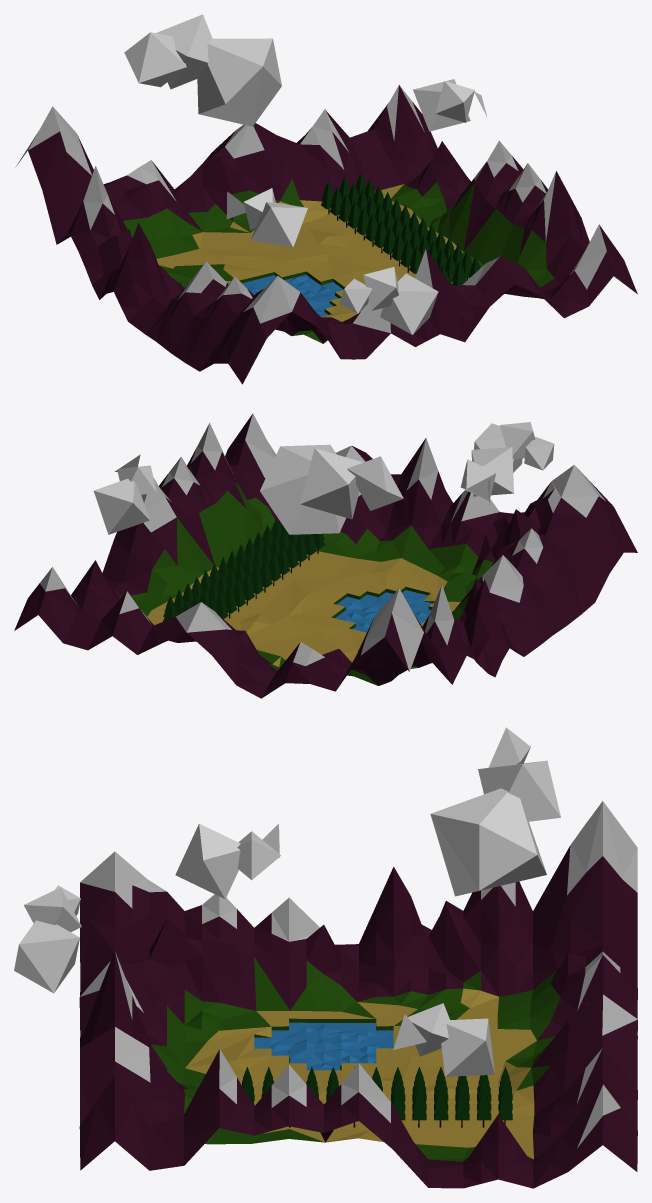
3 renders of one model, top to bottom at view 1: azimuth 30°, elevation 25°; view 2: azimuth 150°, elevation 25°; view 3: azimuth 270°, elevation 25°, orthographic. The views are drawn at different scales.
Visible parts, largest first — view 1: Plane, clouds_Icosphere.009, Tree1.001_Cube.005; view 2: Plane, clouds_Icosphere.009, Tree1.001_Cube.005; view 3: Plane, clouds_Icosphere.009, Tree1.001_Cube.005.
Part boxes in pixels (left/top/right/bottom): Plane: left=15, top=85, right=637, bottom=384; clouds_Icosphere.009: left=124, top=14, right=487, bottom=334; Tree1.001_Cube.005: left=321, top=172, right=480, bottom=285; Plane: left=14, top=413, right=637, bottom=698; clouds_Icosphere.009: left=93, top=422, right=554, bottom=534; Tree1.001_Cube.005: left=163, top=518, right=325, bottom=621; Plane: left=79, top=801, right=637, bottom=1188; clouds_Icosphere.009: left=14, top=727, right=560, bottom=1076; Tree1.001_Cube.005: left=242, top=1066, right=512, bottom=1127.
Size of the model in its own units: 10.01 by 5.55 by 11.19.
